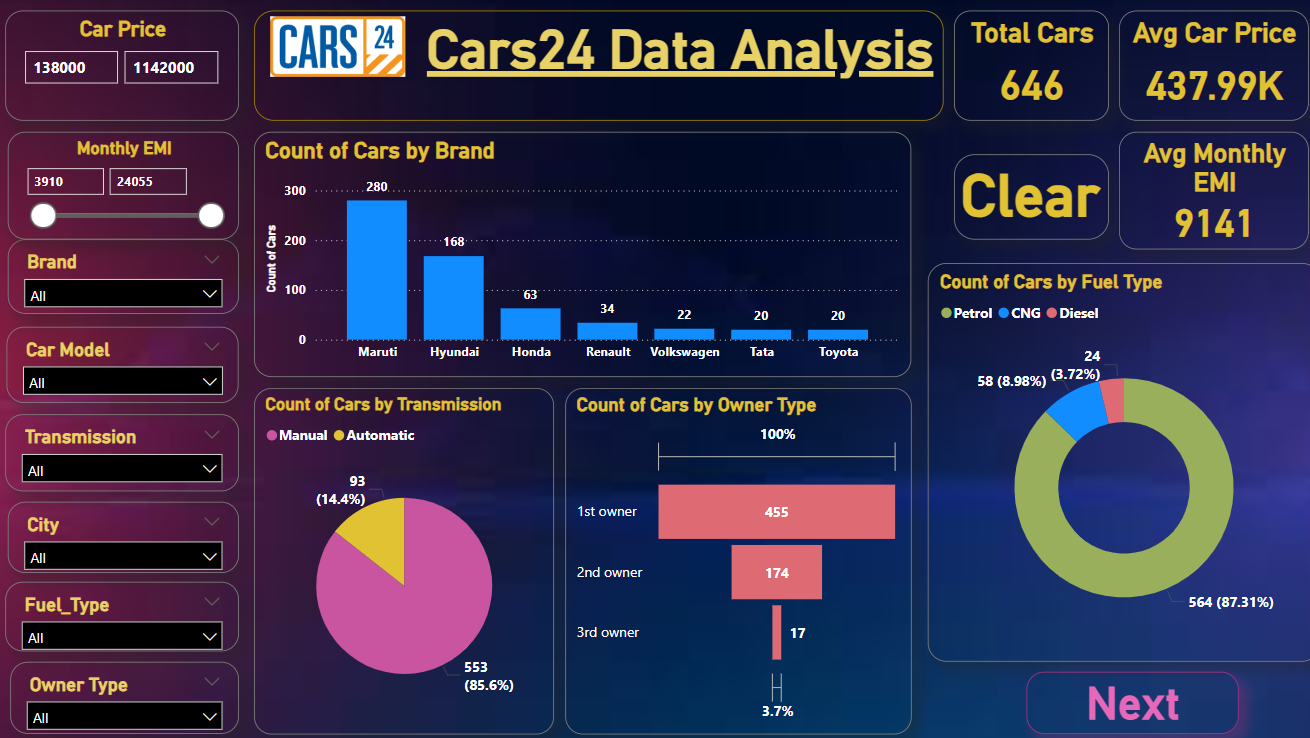

This screenshot's page, from the dashboard's own definition file:
{"tool":"powerbi","page":{"name":"Main","canvas":[1280,720],"ordinal":0},"visuals":[{"type":"textbox","title":"       Cars24 Data Analysis ","box":[250.9,12.1,666,106.2],"z":0},{"type":"image","box":[262.1,12.3,140,70],"z":1},{"type":"slicer","fields":{"Values":["Cars24_data.Brand"]},"box":[13.3,232.8,223.2,72.4],"z":2},{"type":"slicer","fields":{"Values":["Cars24_data.Car_Model"]},"box":[12.1,317.3,224.4,73.6],"z":3},{"type":"slicer","title":"Car Price","fields":{"Values":["Cars24_data.Car_Price"]},"box":[10.9,12.1,225.6,106.2],"z":4},{"type":"slicer","fields":{"Values":["Cars24_data.Car_Transmission"]},"box":[10.9,401.7,225.6,74.8],"z":5},{"type":"slicer","fields":{"Values":["Cars24_data.City"]},"box":[13.3,486.2,223.2,68.8],"z":6},{"type":"slicer","fields":{"Values":["Cars24_data.Fuel_Type"]},"box":[10.9,563.4,225.6,67.6],"z":7},{"type":"slicer","fields":{"Values":["Cars24_data.Owner_Type"]},"box":[15.7,640.6,220.8,70],"z":8},{"type":"slicer","title":"Monthly EMI","fields":{"Values":["Cars24_data.Monthly_EMI"]},"box":[13.3,129.1,223.2,103.8],"z":9},{"type":"card","title":"Avg Car Price","fields":{"Values":["Avg(Cars24_data.Car_Price)"]},"box":[1085.8,12.1,183.4,106.2],"z":10},{"type":"card","title":"Total Cars","fields":{"Values":["CountNonNull(Cars24_data.Registration_ID)"]},"box":[926.5,12.1,149.6,106.2],"z":11},{"type":"card","title":"Avg Monthly EMI","fields":{"Values":["Avg(Cars24_data.Monthly_EMI)"]},"box":[1085.8,129.1,183.4,113.4],"z":12},{"type":"donutChart","title":"Count of Cars by Fuel Type","fields":{"Category":["Cars24_data.Fuel_Type"],"Y":["CountNonNull(Cars24_data.Registration_ID)"]},"box":[901.2,255.8,378.8,384.9],"z":15},{"type":"pieChart","title":"Count of Cars by Transmission ","fields":{"Category":["Cars24_data.Car_Transmission"],"Y":["CountNonNull(Cars24_data.Registration_ID)"]},"box":[250.9,376.4,289.5,334.2],"z":16},{"type":"funnel","title":"Count of Cars by Owner Type","fields":{"Category":["Cars24_data.Owner_Type"],"Y":["CountNonNull(Cars24_data.Registration_ID)"]},"box":[551.3,376.4,334.2,334.2],"z":17},{"type":"shape","title":"Clear","box":[926.2,150.9,149.6,82.3],"z":18},{"type":"shape","title":"Next","box":[996.2,650.4,204.5,60.4],"z":19},{"type":"columnChart","title":"Count of Cars by Brand","fields":{"Y":["CountNonNull(Cars24_data.Registration_ID)"],"Category":["Cars24_data.Brand"]},"box":[250.9,129.1,634.6,236.5],"z":20}]}

Visuals, with their boxes in screenshot pixels (x1, y1, x2, y2), scaled from the page's 1280x720 canvas onto the 1310x738 screenshot:
"       Cars24 Data Analysis " textbox: crop(257, 12, 938, 121)
image: crop(268, 13, 412, 84)
slicer - Cars24_data.Brand: crop(14, 239, 242, 313)
slicer - Cars24_data.Car_Model: crop(12, 325, 242, 401)
"Car Price" slicer: crop(11, 12, 242, 121)
slicer - Cars24_data.Car_Transmission: crop(11, 412, 242, 488)
slicer - Cars24_data.City: crop(14, 498, 242, 569)
slicer - Cars24_data.Fuel_Type: crop(11, 577, 242, 647)
slicer - Cars24_data.Owner_Type: crop(16, 657, 242, 728)
"Monthly EMI" slicer: crop(14, 132, 242, 239)
"Avg Car Price" card: crop(1111, 12, 1299, 121)
"Total Cars" card: crop(948, 12, 1101, 121)
"Avg Monthly EMI" card: crop(1111, 132, 1299, 249)
"Count of Cars by Fuel Type" donutChart: crop(922, 262, 1309, 657)
"Count of Cars by Transmission " pieChart: crop(257, 386, 553, 728)
"Count of Cars by Owner Type" funnel: crop(564, 386, 906, 728)
"Clear" shape: crop(948, 155, 1101, 239)
"Next" shape: crop(1020, 667, 1229, 729)
"Count of Cars by Brand" columnChart: crop(257, 132, 906, 375)
